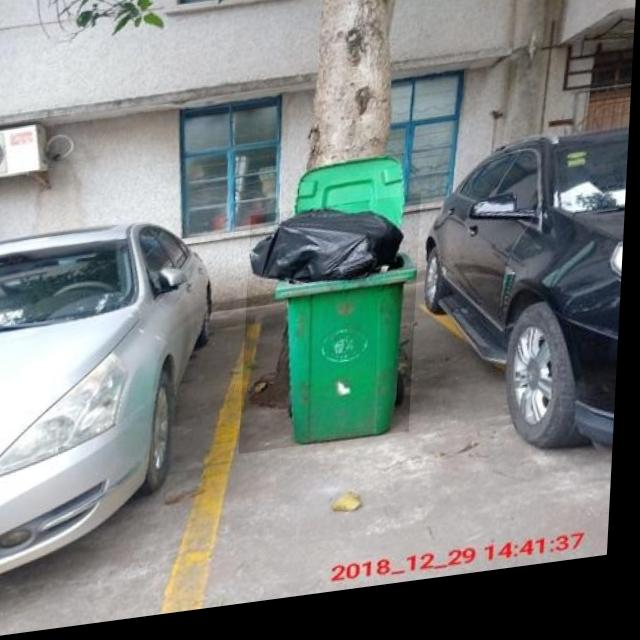overflow: (244, 206, 424, 461)
